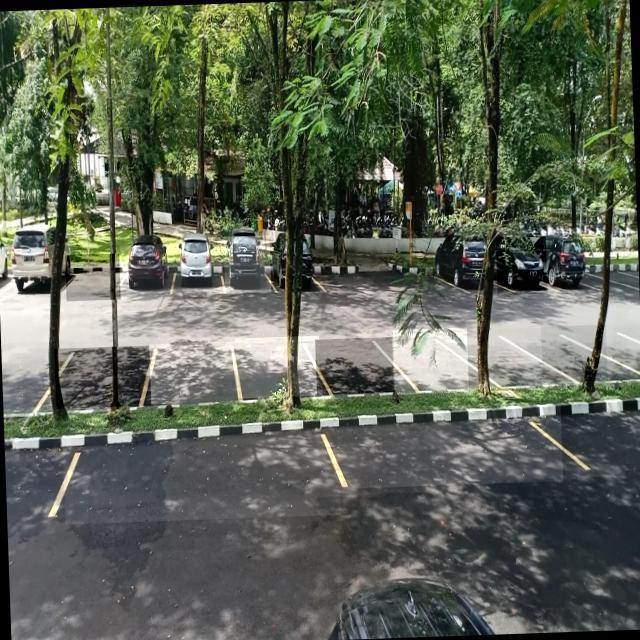empty: (62, 412, 341, 524), (336, 401, 563, 488), (54, 345, 152, 408), (149, 341, 240, 404), (234, 335, 321, 398), (392, 327, 468, 394), (466, 328, 542, 392), (314, 336, 394, 394), (540, 324, 608, 382), (65, 253, 121, 301)
occupied: (169, 240, 225, 296), (495, 235, 547, 295), (432, 239, 487, 294), (222, 234, 271, 294), (119, 244, 173, 298)
